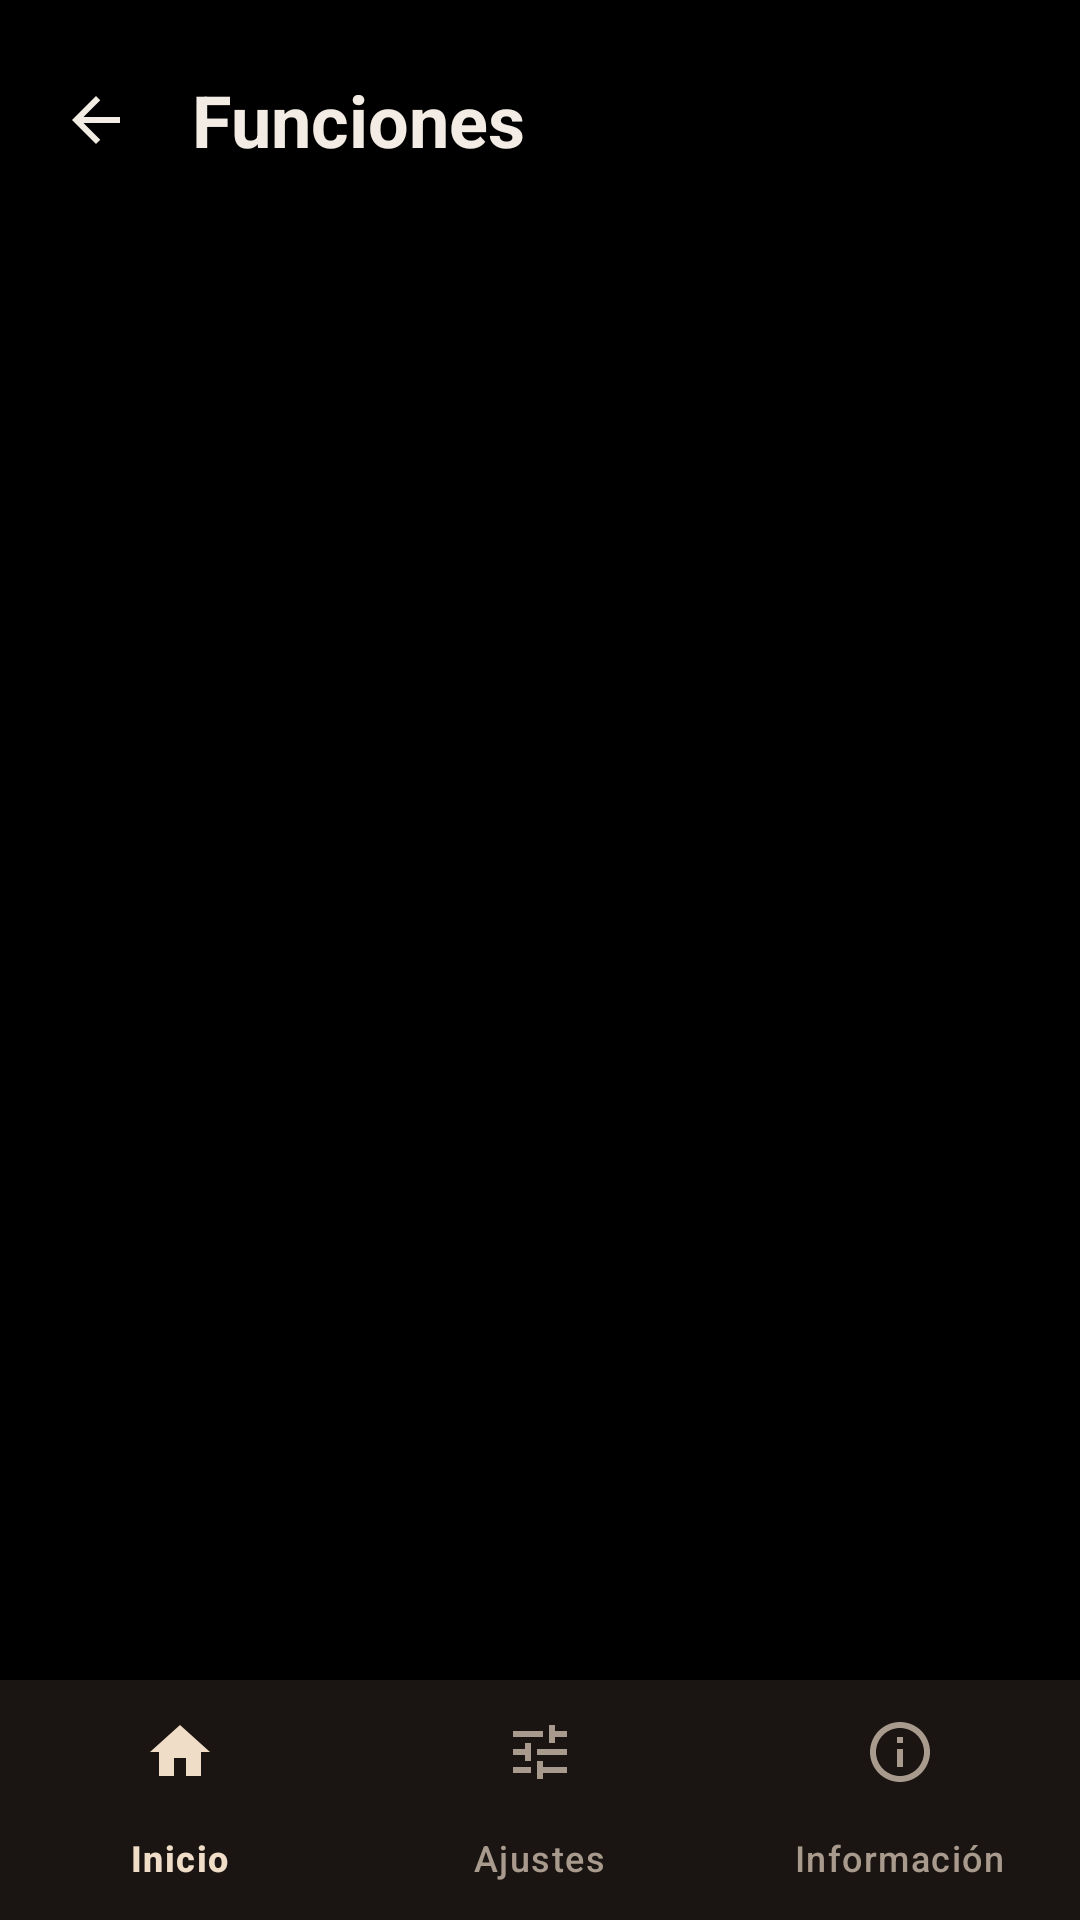

Icon click points for this 1080px x 1920px phone screenshot, format point (x, y):
Volver: point (96, 120)
